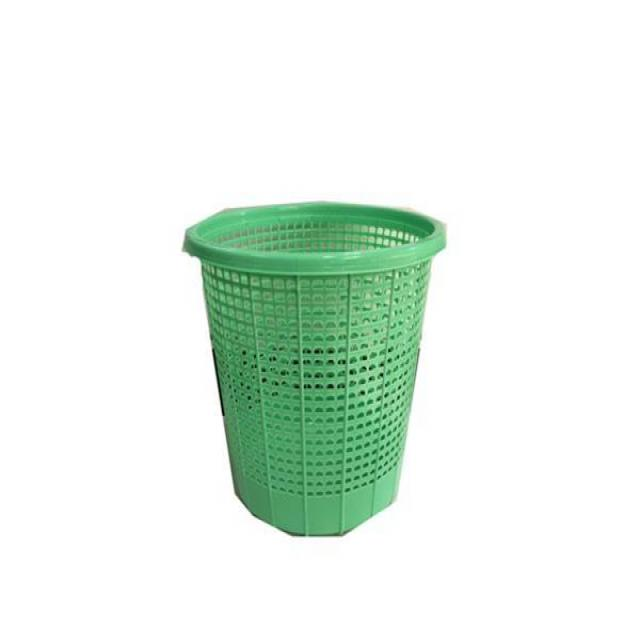Dustbin: (178, 197, 450, 545)
